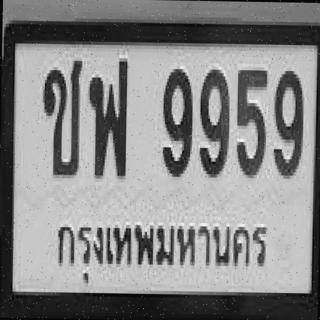A10: (37, 42, 85, 195)
A31: (83, 50, 134, 181)
N05: (231, 54, 269, 198)
N09: (152, 50, 198, 198), (270, 62, 307, 203), (196, 62, 232, 192)
P04: (51, 205, 282, 292)
